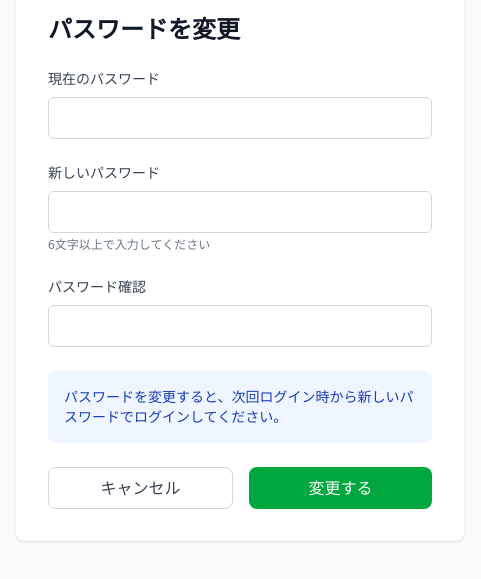
Scenario: ChangePassword › パスワードが一致しない場合、バリデーションエラーが表示されること
Type "oldPassword123" into the password field labelled "現在のパスワード" at (240, 118), box [48, 97, 432, 139]
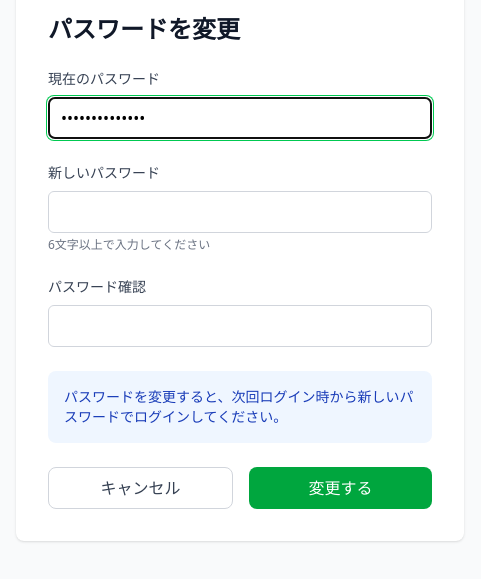
Type "newPassword456" into the password field labelled "新しいパスワード" at (240, 212), box [48, 191, 432, 233]
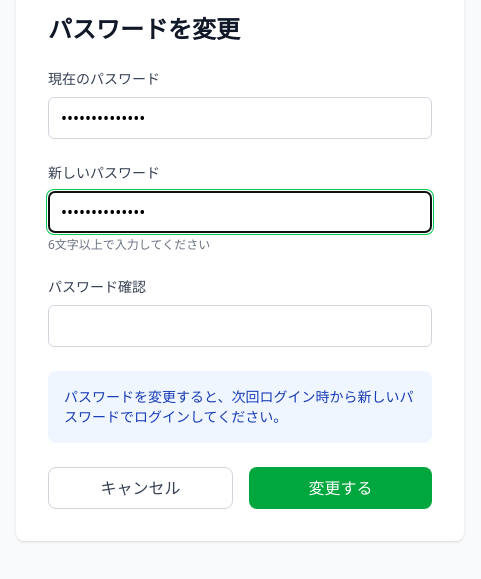
Type "differentPassword789" into the password field labelled "パスワード確認" at (240, 326), box [48, 305, 432, 347]
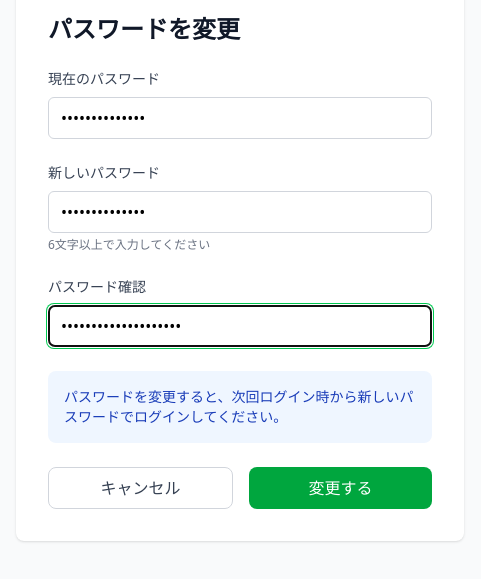
Click the button "変更する" at (340, 488), box [249, 467, 432, 509]
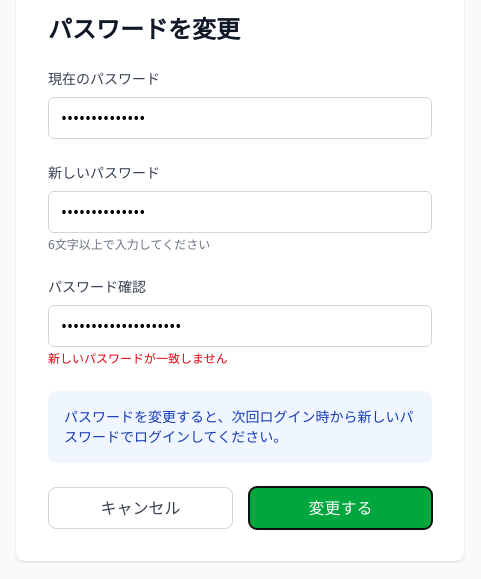
Check: the text "新しいパスワードが一致しません" is shown, box [48, 350, 228, 367]
